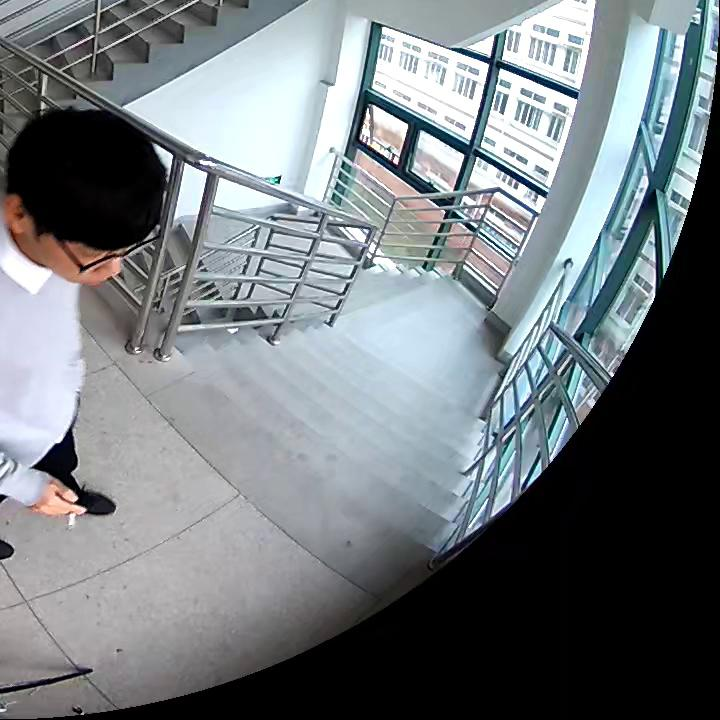handsmoke: (39, 481, 88, 531)
mouthwithoutsmoke: (3, 109, 167, 294)
